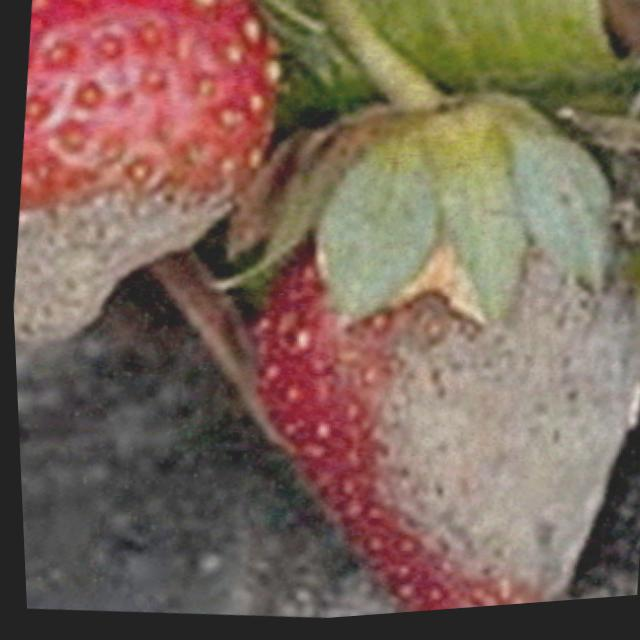Gray Mold: (260, 234, 640, 616), (11, 146, 259, 352)
